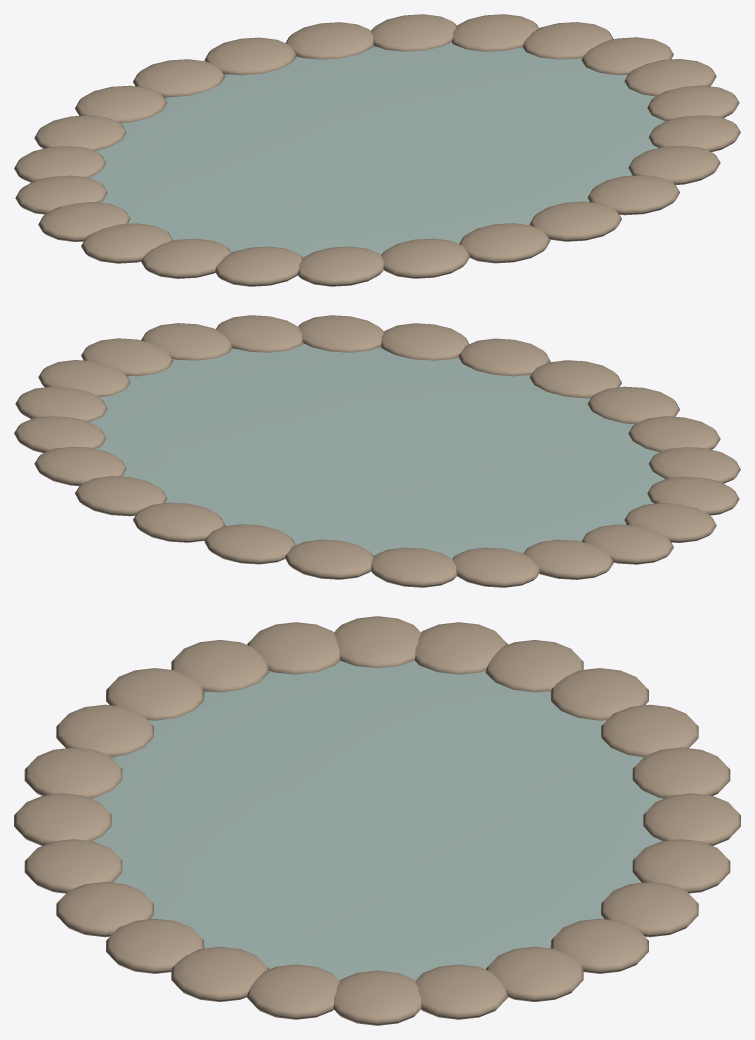
Rendered from savanna-wildlife-waterhole-pan-8bcb41fe__6562.glb.
3 views of the same model, one above another, from view 1: azimuth 30°, elevation 25°; view 2: azimuth 150°, elevation 25°; view 3: azimuth 270°, elevation 25° (orthographic). The views are drawn at different scales.
Parts seen in each view (by area): view 1: waterhole-pan; view 2: waterhole-pan; view 3: waterhole-pan.
Boxes of the visible parts, x1,y1,x2,y2 form: waterhole-pan: [14, 14, 740, 286]; waterhole-pan: [14, 315, 740, 587]; waterhole-pan: [14, 616, 740, 1025].
Size of the model in its own units: 9.14 by 0.2399 by 6.94.
